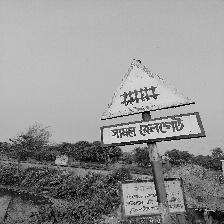Rail-crossing: (100, 59, 204, 147)
